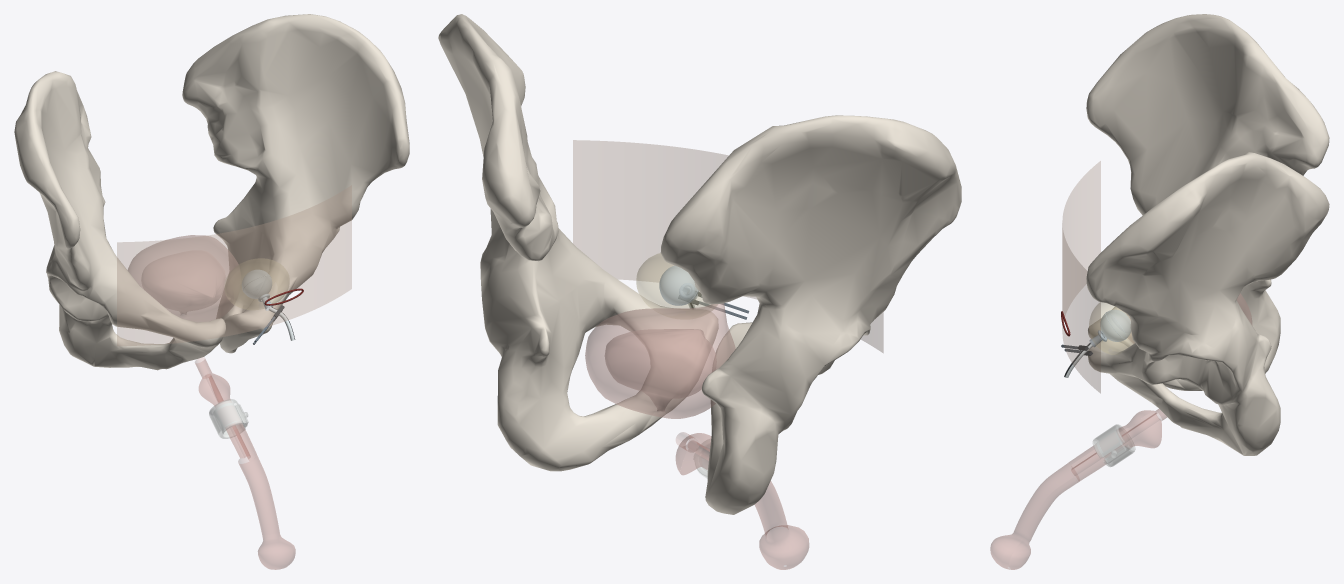
The model's file is aus-30-balloon.glb.
The picture shows the model from 3 angles, left to right: view 1: azimuth 30°, elevation 25°; view 2: azimuth 150°, elevation 25°; view 3: azimuth 270°, elevation 25°; orthographic projection. The views are drawn at different scales.
Visible parts, largest first — view 1: Pubis_L, Abdominal_wall, Pubis_R, Bladder, Corpus_spongiosum, Retzius, Cuff_shell, Cuff_band, Balloon_shell; view 2: Pubis_R, Pubis_L, Abdominal_wall, Bladder, Corpus_spongiosum, Retzius, Balloon_shell; view 3: Pubis_L, Pubis_R, Abdominal_wall, Corpus_spongiosum, Retzius, Cuff_shell, Balloon_shell, Cuff_band, Urethra.
Part boxes in pixels (x1,y1,x2,y2): Pubis_L: (182, 14, 409, 353); Abdominal_wall: (117, 185, 351, 345); Pubis_R: (14, 71, 225, 370); Bladder: (128, 235, 238, 321); Corpus_spongiosum: (195, 357, 295, 569); Retzius: (224, 258, 289, 309); Cuff_shell: (209, 399, 247, 438); Cuff_band: (209, 400, 246, 436); Balloon_shell: (242, 270, 271, 298); Pubis_R: (660, 115, 961, 514); Pubis_L: (438, 14, 718, 471); Abdominal_wall: (573, 140, 883, 352); Bladder: (585, 303, 735, 418); Corpus_spongiosum: (676, 432, 808, 569); Retzius: (636, 253, 717, 318); Balloon_shell: (659, 265, 698, 305); Pubis_L: (1086, 152, 1329, 455); Pubis_R: (1086, 14, 1329, 390); Abdominal_wall: (1062, 161, 1100, 393); Corpus_spongiosum: (990, 409, 1166, 569); Retzius: (1089, 302, 1134, 354); Cuff_shell: (1093, 424, 1135, 466); Balloon_shell: (1100, 309, 1130, 341); Cuff_band: (1093, 425, 1133, 466); Urethra: (1071, 413, 1159, 475).
Size of what is drawn, in the model's own units: 0.2698 by 0.3097 by 0.1992.
